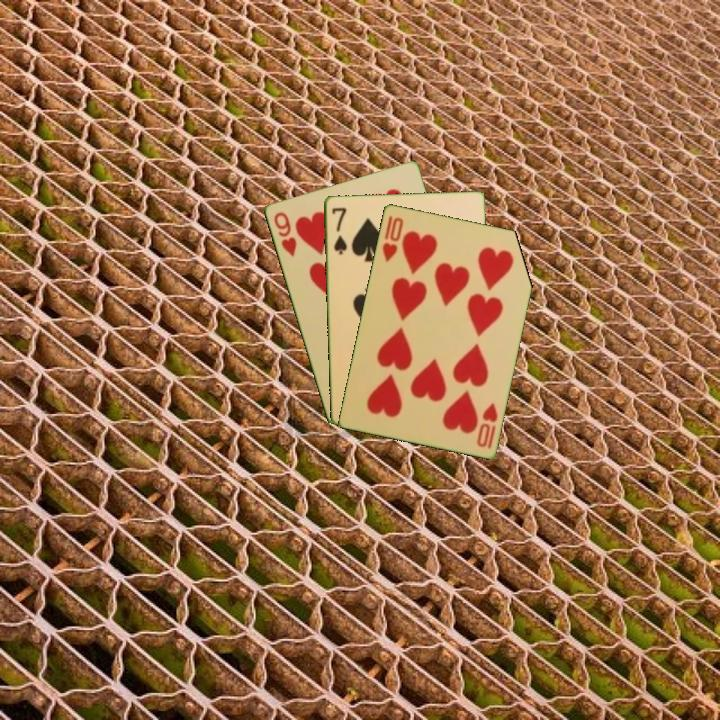10h: (473, 399, 501, 451), (378, 213, 406, 264)
7s: (328, 204, 349, 257)
9h: (270, 208, 299, 260)
